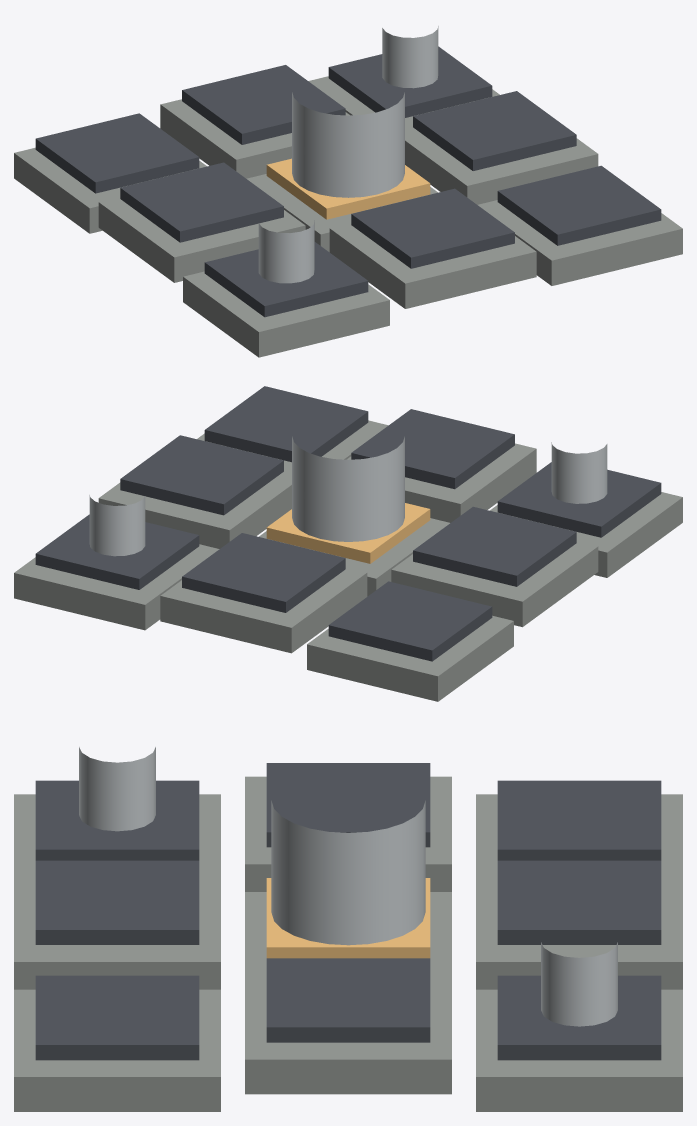
Rendered from terra-base.glb.
3 renders of one model, top to bottom at view 1: azimuth 30°, elevation 25°; view 2: azimuth 150°, elevation 25°; view 3: azimuth 270°, elevation 25°, orthographic. The views are drawn at different scales.
Parts seen in each view (by area): view 1: terra-base free asset preview part 19, terra-base free asset preview part 13, terra-base free asset preview part 15, terra-base free asset preview part 2, terra-base free asset preview part 18, terra-base free asset preview part 8, terra-base free asset preview part 12, terra-base free asset preview part 16, terra-base free asset preview part 4, terra-base free asset preview part 17, terra-base free asset preview part 7, terra-base free asset preview part 11 (+9 smaller); view 2: terra-base free asset preview part 19, terra-base free asset preview part 1, terra-base free asset preview part 3, terra-base free asset preview part 2, terra-base free asset preview part 12, terra-base free asset preview part 8, terra-base free asset preview part 4, terra-base free asset preview part 18, terra-base free asset preview part 16, terra-base free asset preview part 7, terra-base free asset preview part 5, terra-base free asset preview part 14 (+9 smaller); view 3: terra-base free asset preview part 19, terra-base free asset preview part 18, terra-base free asset preview part 11, terra-base free asset preview part 12, terra-base free asset preview part 16, terra-base free asset preview part 4, terra-base free asset preview part 5, terra-base free asset preview part 17, terra-base free asset preview part 2, terra-base free asset preview part 8, terra-base free asset preview part 6, terra-base free asset preview part 15 (+9 smaller).
Part boxes in pixels (<box>): terra-base free asset preview part 19: <box>292,92,404,197</box>; terra-base free asset preview part 13: <box>183,271,389,357</box>; terra-base free asset preview part 15: <box>329,223,536,308</box>; terra-base free asset preview part 2: <box>35,113,199,193</box>; terra-base free asset preview part 18: <box>497,165,661,245</box>; terra-base free asset preview part 8: <box>120,162,283,242</box>; terra-base free asset preview part 12: <box>413,91,576,170</box>; terra-base free asset preview part 16: <box>351,188,514,268</box>; terra-base free asset preview part 4: <box>182,65,345,144</box>; terra-base free asset preview part 17: <box>478,200,682,285</box>; terra-base free asset preview part 7: <box>98,197,305,282</box>; terra-base free asset preview part 11: <box>405,125,598,204</box>; terra-base free asset preview part 19: <box>292,436,404,541</box>; terra-base free asset preview part 1: <box>307,615,513,701</box>; terra-base free asset preview part 3: <box>160,567,367,653</box>; terra-base free asset preview part 2: <box>328,581,492,661</box>; terra-base free asset preview part 12: <box>120,435,283,515</box>; terra-base free asset preview part 8: <box>413,506,576,586</box>; terra-base free asset preview part 4: <box>182,533,345,612</box>; terra-base free asset preview part 18: <box>204,386,368,462</box>; terra-base free asset preview part 16: <box>351,409,514,489</box>; terra-base free asset preview part 7: <box>391,541,598,627</box>; terra-base free asset preview part 5: <box>14,544,219,630</box>; terra-base free asset preview part 14: <box>497,462,661,537</box>; terra-base free asset preview part 19: <box>271,800,425,945</box>; terra-base free asset preview part 18: <box>35,975,199,1060</box>; terra-base free asset preview part 11: <box>245,972,451,1094</box>; terra-base free asset preview part 12: <box>266,958,430,1042</box>; terra-base free asset preview part 16: <box>35,860,199,944</box>; terra-base free asset preview part 4: <box>497,860,661,944</box>; terra-base free asset preview part 5: <box>476,989,682,1111</box>; terra-base free asset preview part 17: <box>14,989,220,1111</box>; terra-base free asset preview part 2: <box>497,780,661,860</box>; terra-base free asset preview part 8: <box>266,763,430,847</box>; terra-base free asset preview part 6: <box>497,975,661,1060</box>; terra-base free asset preview part 15: <box>14,874,220,989</box>.
Size of the model in its own units: 1.39 by 0.39 by 1.39.
